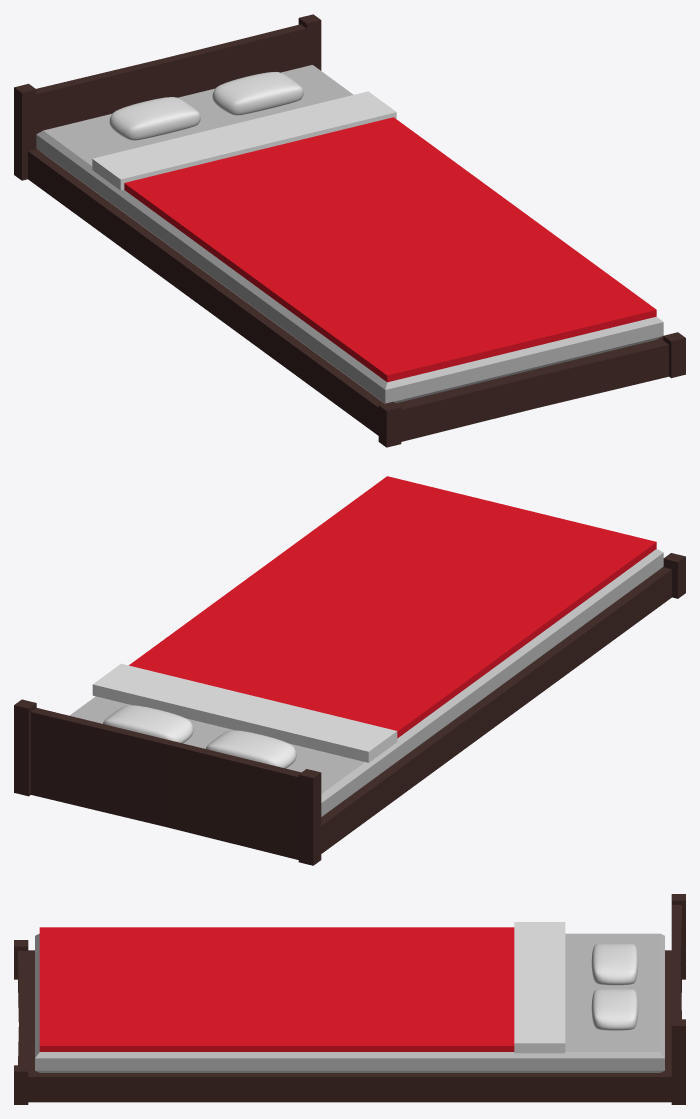
File: BedDouble.fbx
The picture shows the model from 3 angles, top to bottom: view 1: azimuth 30°, elevation 25°; view 2: azimuth 150°, elevation 25°; view 3: azimuth 270°, elevation 25°; orthographic projection. The views are drawn at different scales.
Parts seen in each view (by area): view 1: Sheets, BedDouble, Mattress, Pillow.002, Pillow.001; view 2: Sheets, BedDouble, Mattress, Pillow.001, Pillow.002; view 3: Sheets, BedDouble, Mattress, Pillow.002, Pillow.001.
Boxes of the visible parts, <box> form: Sheets: <box>92,91,656,382</box>; BedDouble: <box>14,14,685,447</box>; Mattress: <box>36,65,663,403</box>; Pillow.002: <box>109,97,200,140</box>; Pillow.001: <box>212,72,303,115</box>; Sheets: <box>92,476,656,762</box>; BedDouble: <box>14,553,685,865</box>; Mattress: <box>69,549,663,816</box>; Pillow.001: <box>103,705,193,743</box>; Pillow.002: <box>206,730,296,768</box>; Sheets: <box>39,922,565,1053</box>; BedDouble: <box>14,894,685,1104</box>; Mattress: <box>35,933,664,1072</box>; Pillow.002: <box>591,943,638,985</box>; Pillow.001: <box>591,989,638,1030</box>.
Size of the model in its own units: 1163 by 325 by 2507.
